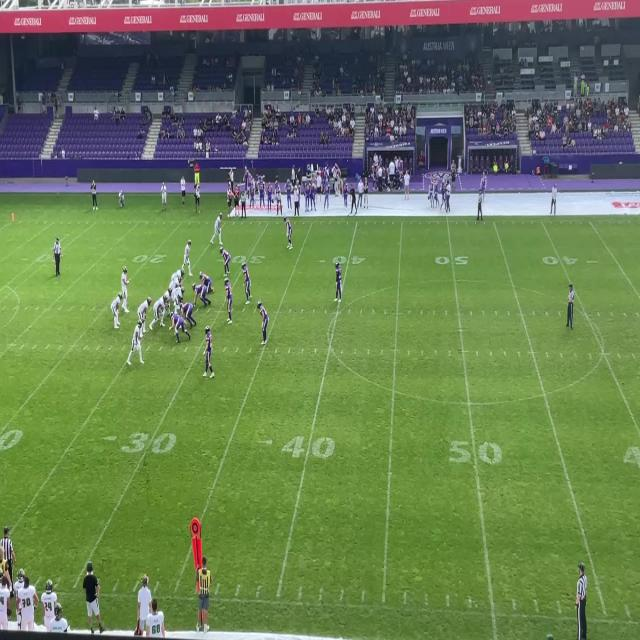3: (122, 429, 150, 460)
4: (280, 432, 306, 462)
5: (446, 435, 473, 471)
american-football-players: (128, 319, 145, 366), (202, 328, 216, 380), (256, 300, 270, 348), (170, 313, 192, 341), (150, 297, 167, 331), (120, 267, 132, 312), (240, 264, 252, 307), (111, 293, 124, 332), (190, 285, 212, 308), (210, 211, 224, 247), (180, 302, 198, 329), (332, 263, 342, 305), (224, 277, 233, 323), (282, 215, 294, 248), (181, 241, 192, 276), (219, 247, 230, 277), (199, 273, 214, 294), (172, 268, 186, 286), (172, 288, 184, 308), (168, 278, 182, 294)
